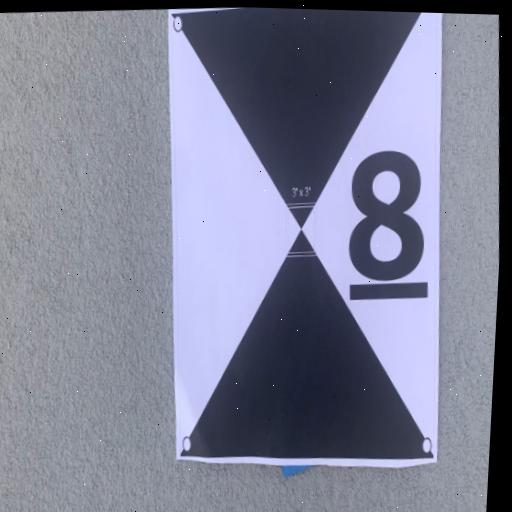target8: (144, 5, 459, 475)
